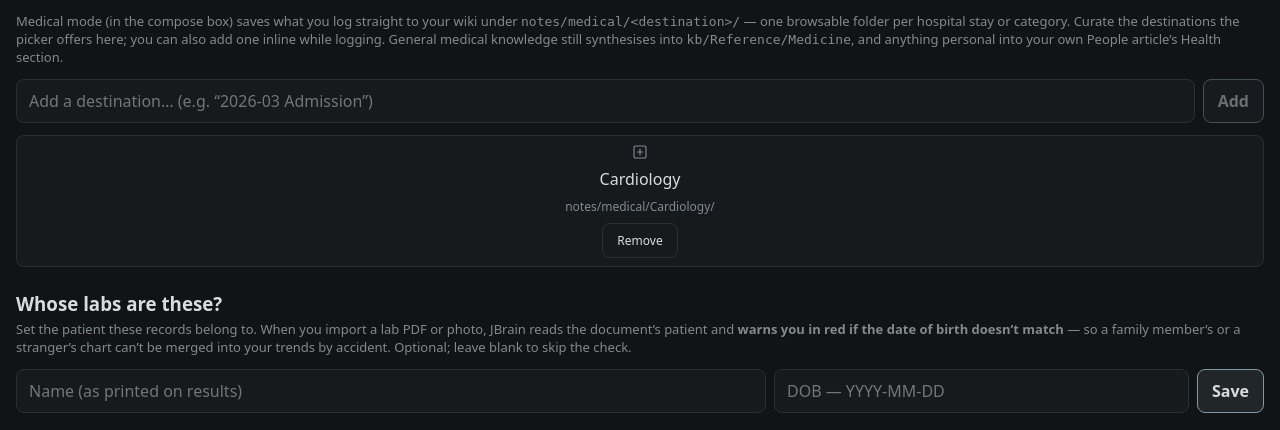
Test: MedicalPage — owner identity › Save PUTs the trimmed name/dob and flashes a Saved confirmation
Expected: the text "Cardiology" is shown, [600,168,680,190]
In the field with placeholder "Name (as printed on results)": (391, 391) [16,369,766,413], type "  Jane Roe  "
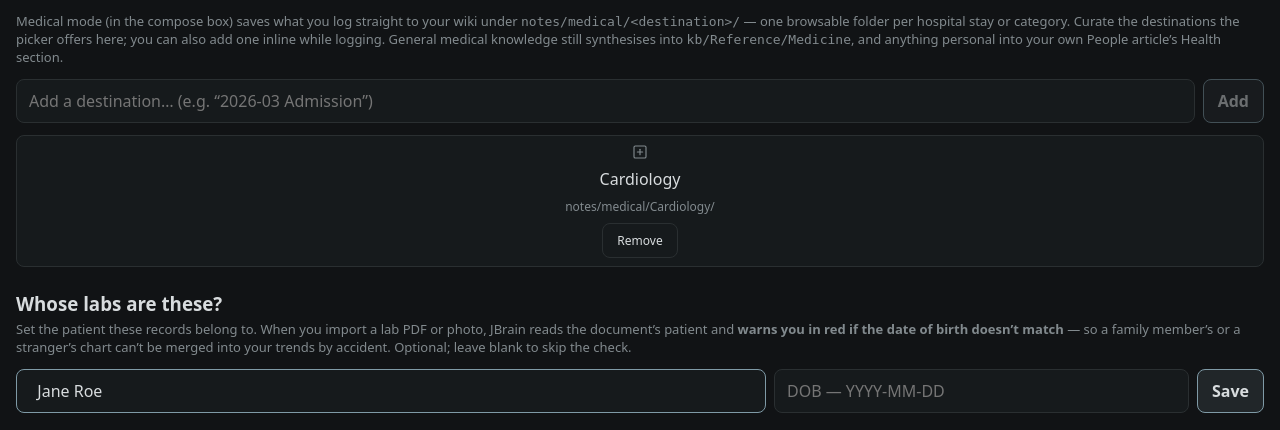
In the field with placeholder "DOB — YYYY-MM-DD": (982, 391) [774,369,1189,413], type "1990-05-06"
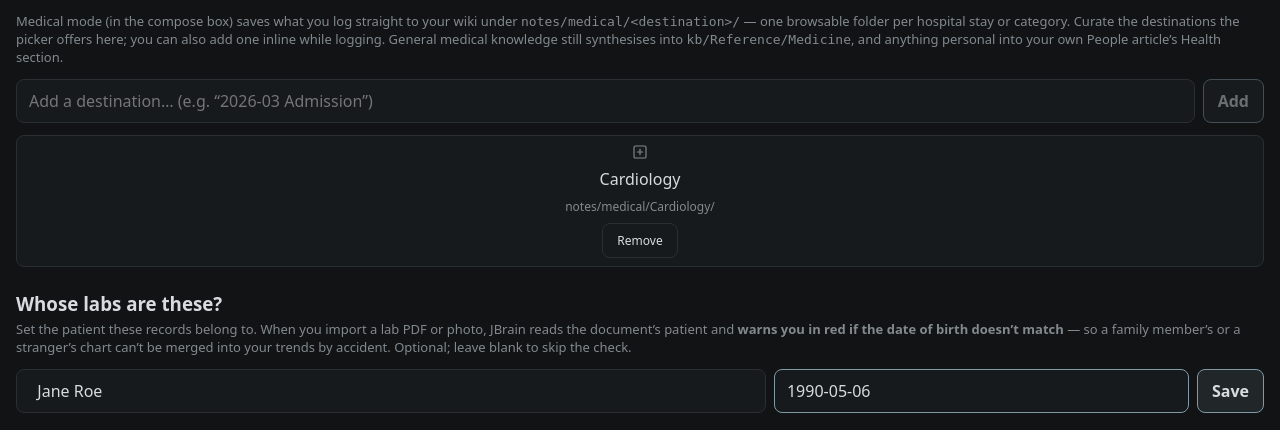
Click the button "Save": (1230, 391) [1197,369,1264,413]
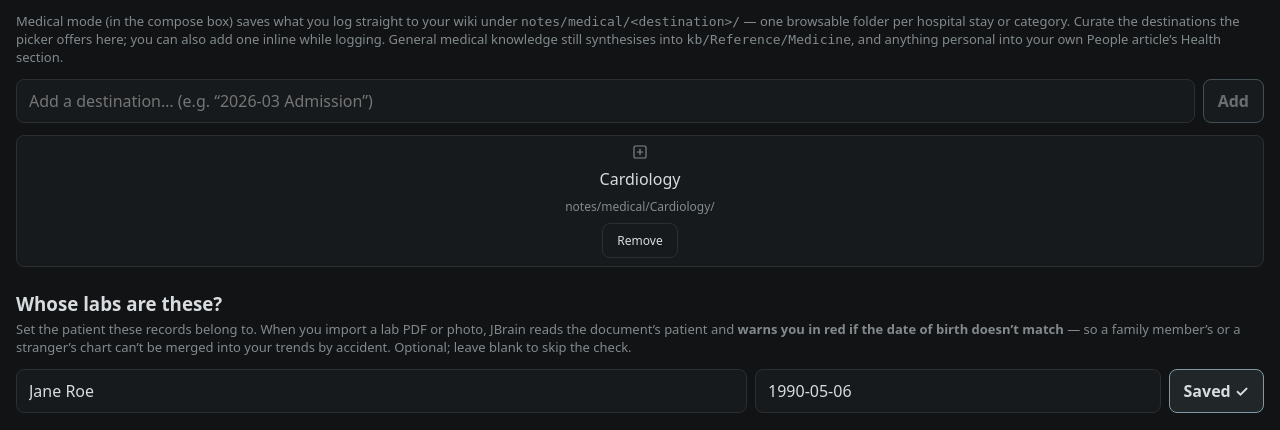
Now the button "Saved ✓" is shown, box [1168,369,1264,413]
